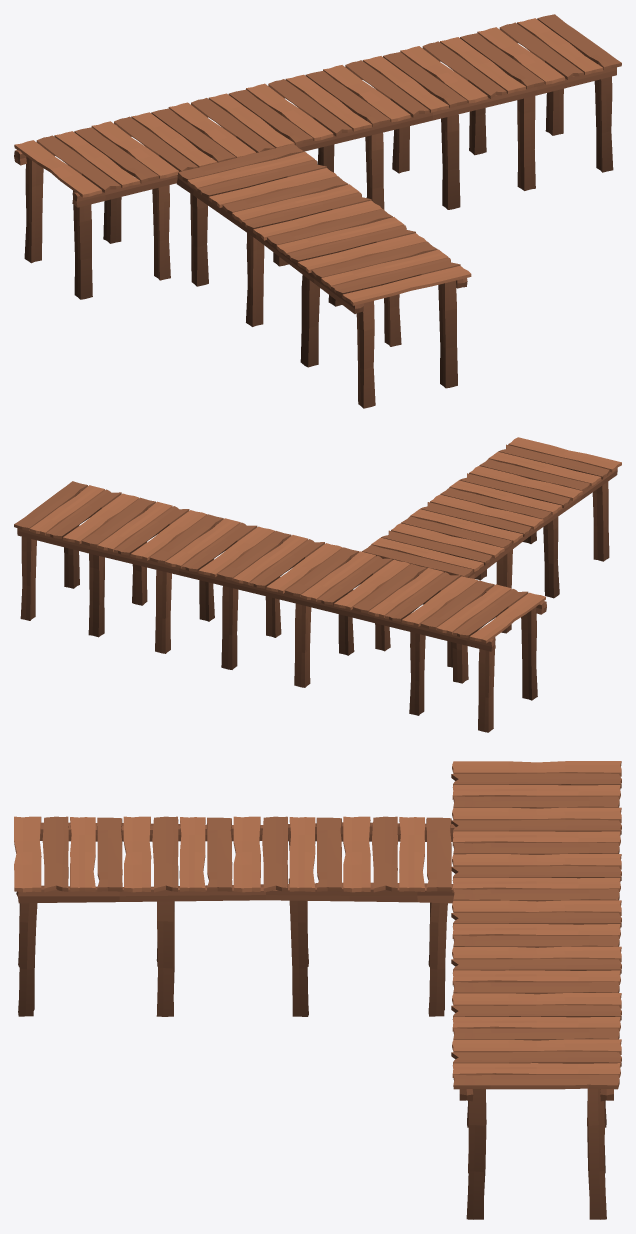
File: wooden-pier-2.glb
3 views of the same model, one above another, from view 1: azimuth 30°, elevation 25°; view 2: azimuth 150°, elevation 25°; view 3: azimuth 270°, elevation 25° (orthographic). The views are drawn at different scales.
Parts seen in each view (by area): view 1: wooden pier 2; view 2: wooden pier 2; view 3: wooden pier 2.
Part boxes in pixels (x1,y1,x2,y2): wooden pier 2: [14, 14, 621, 408]; wooden pier 2: [14, 437, 621, 732]; wooden pier 2: [14, 761, 621, 1219].
Bounding box in the file's own units: 20.53 × 4 × 16.17.
Materials: 1 (1 with a texture image).
